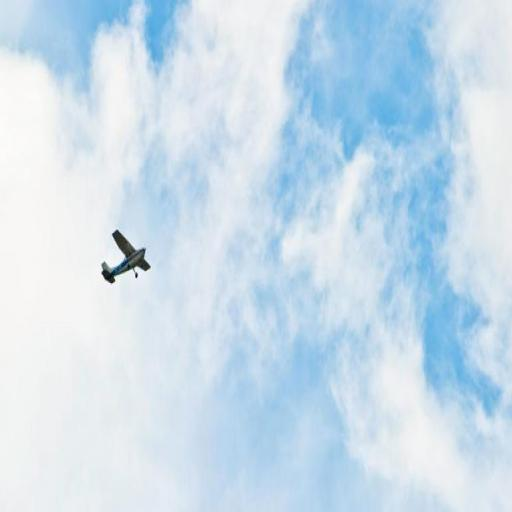aircraft: (99, 223, 153, 296)
